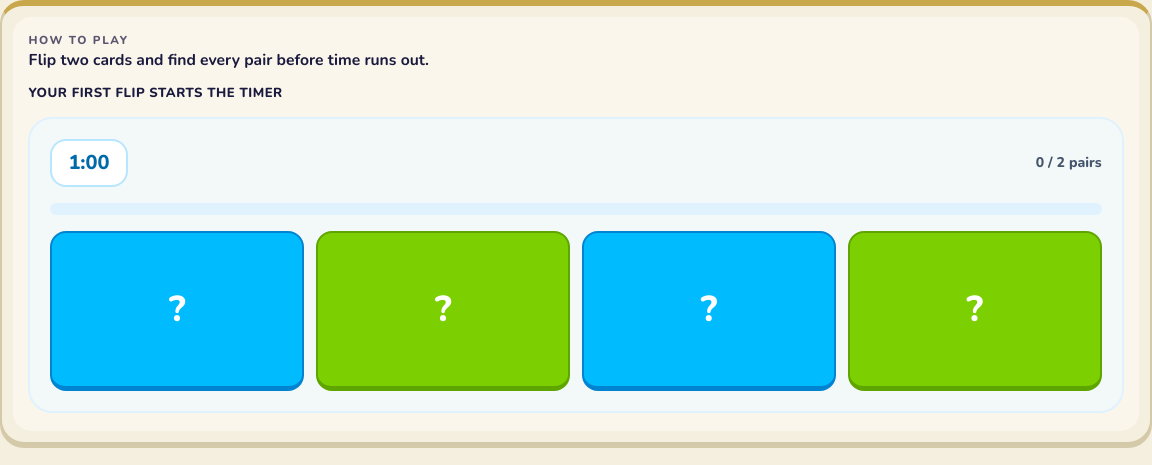
Test case: matching › shows its timer before play and starts at the first card
Expected: the text "1:00" is shown, [50,139,128,187]
Click the 1st button "?". click: (177, 311)
box: [50,231,304,391]
Wait 65000 ms
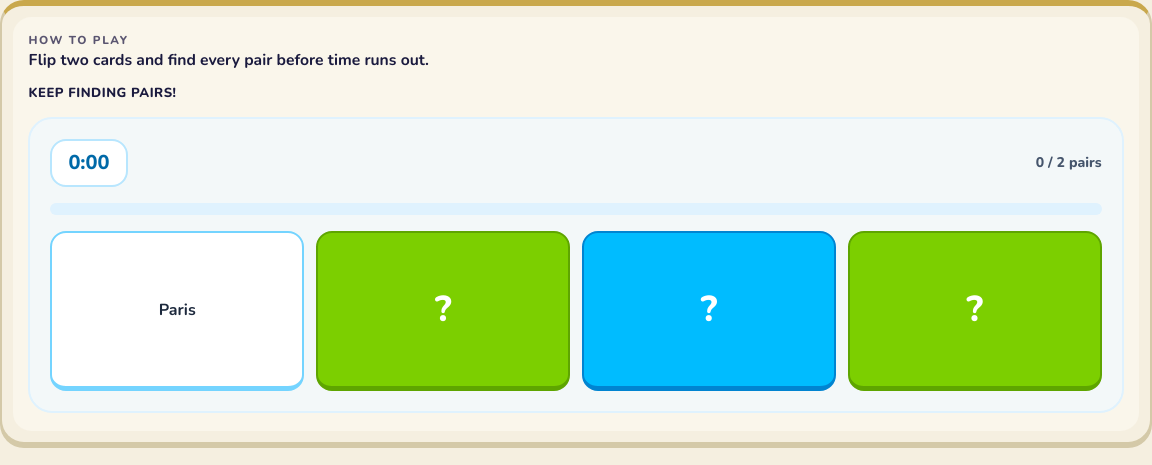
Expected: the button with aria-label "Revealed: Paris" is shown, [50,231,304,391]
